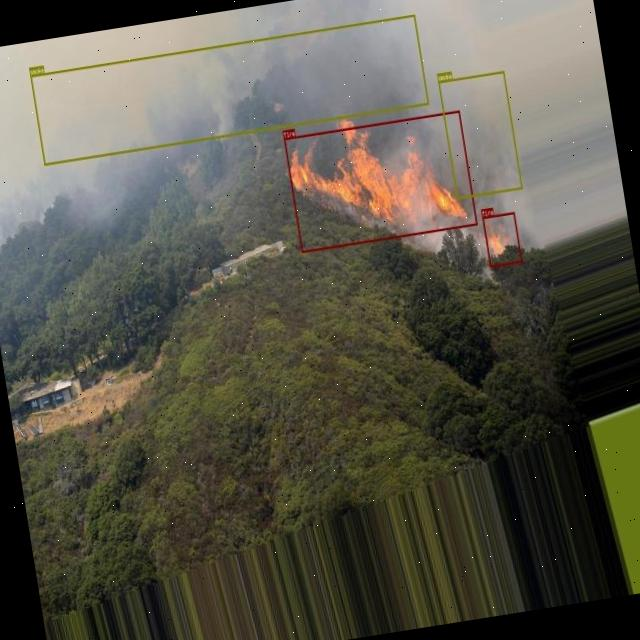fire: (284, 110, 478, 252), (482, 211, 522, 268)
smoke: (31, 15, 428, 166), (438, 71, 523, 199)
